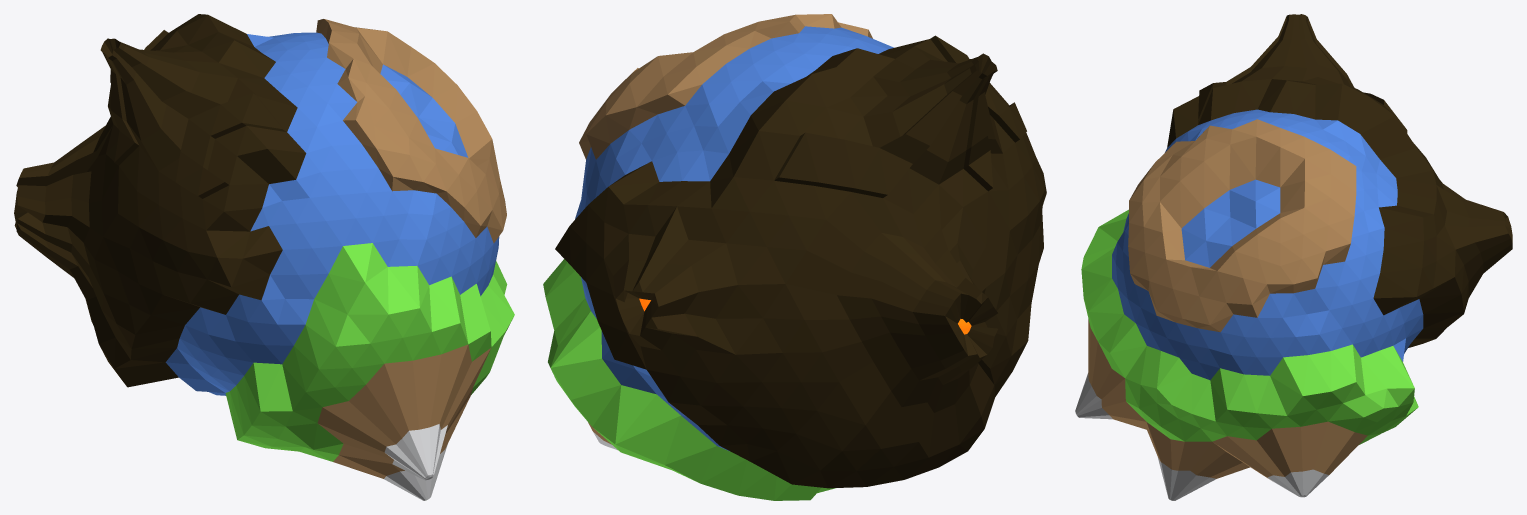
File: planet1.fbx
3 renders of one model, left to right at view 1: azimuth 30°, elevation 25°; view 2: azimuth 150°, elevation 25°; view 3: azimuth 270°, elevation 25°, orthographic. The views are drawn at different scales.
Parts seen in each view (by area): view 1: Icosphere, Icosphere.001, Icosphere.007, Icosphere.002, Icosphere.009, Icosphere.016, Icosphere.010, Icosphere.005, Icosphere.011, Icosphere.012, Icosphere.004; view 2: Icosphere, Icosphere.001, Icosphere.007, Icosphere.002, Icosphere.006, Icosphere.005; view 3: Icosphere.002, Icosphere, Icosphere.007, Icosphere.001, Icosphere.014, Icosphere.016, Icosphere.011, Icosphere.009, Icosphere.012, Icosphere.015, Icosphere.006, Icosphere.005 (+1 smaller).
Boxes of the visible parts, x1,y1,x2,y2 form: Icosphere: (14,14,306,387); Icosphere.001: (166,32,499,395); Icosphere.007: (225,243,514,461); Icosphere.002: (316,19,506,243); Icosphere.009: (317,344,491,463); Icosphere.016: (380,64,468,157); Icosphere.010: (384,424,447,480); Icosphere.005: (166,180,296,385); Icosphere.011: (333,396,470,478); Icosphere.012: (384,444,447,500); Icosphere.004: (350,144,450,214); Icosphere: (555,35,1046,488); Icosphere.001: (575,26,893,451); Icosphere.007: (543,259,835,500); Icosphere.002: (579,14,872,159); Icosphere.006: (604,234,628,302); Icosphere.005: (575,92,772,219); Icosphere.002: (1128,119,1356,332); Icosphere: (1167,14,1512,347); Icosphere.007: (1081,209,1418,444); Icosphere.001: (1112,109,1423,380); Icosphere.014: (1213,421,1367,479); Icosphere.016: (1181,179,1280,267); Icosphere.011: (1146,422,1249,478); Icosphere.009: (1088,319,1149,430); Icosphere.012: (1158,457,1216,500); Icosphere.015: (1267,469,1328,497); Icosphere.006: (1445,225,1510,249); Icosphere.005: (1309,121,1379,354).
Bounding box in the file's own units: 658 × 684 × 696.
